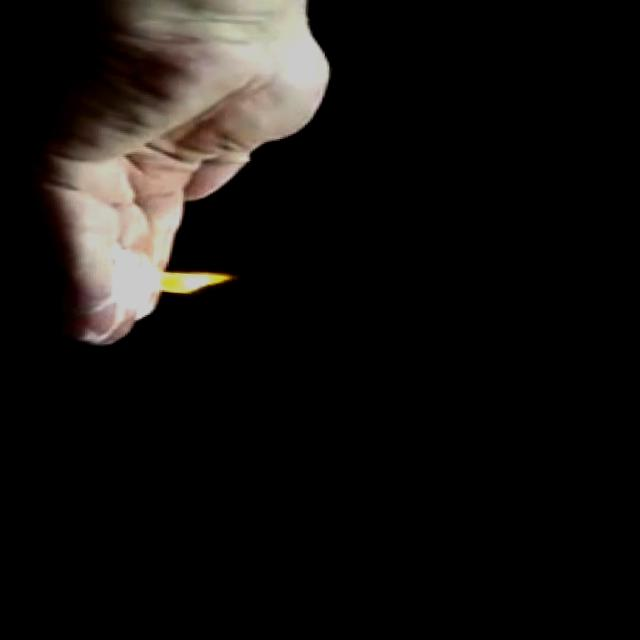helmet: (109, 250, 245, 304)
